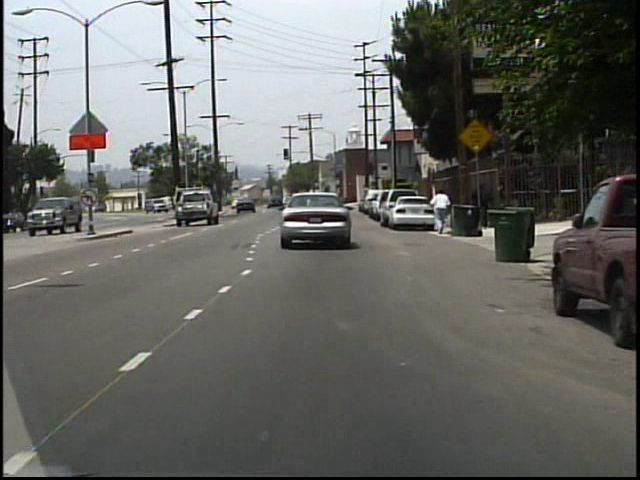person: (430, 187, 452, 236)
